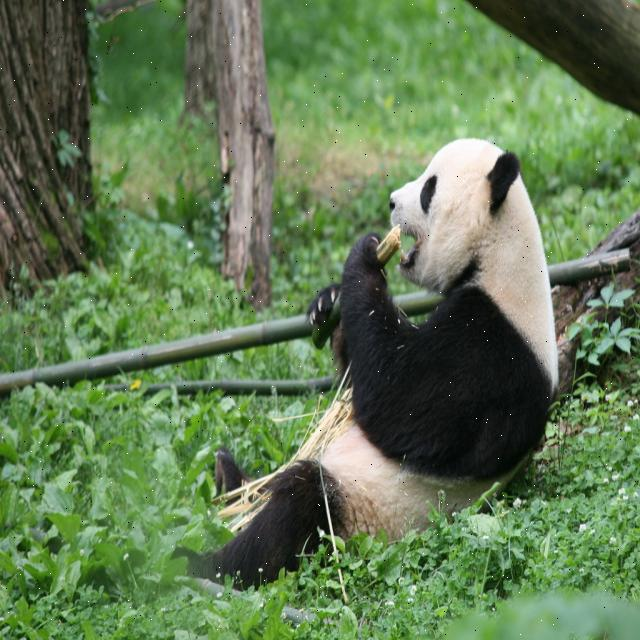panda: (154, 133, 562, 595)
